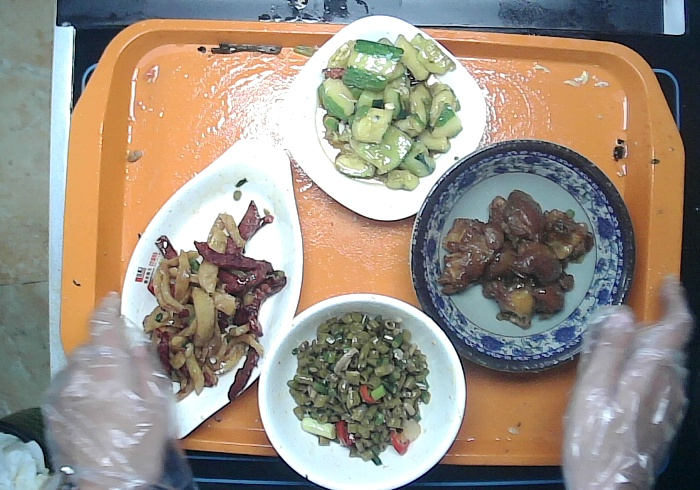ZNLD-Qing_Hua_Wan: (404, 134, 641, 382)
ZNLD-Si_Fang_Wan: (272, 10, 493, 226)
ZNLD-Tang_Wan: (254, 288, 470, 488)
ZNLD-Yu_Pan: (123, 136, 308, 442)
